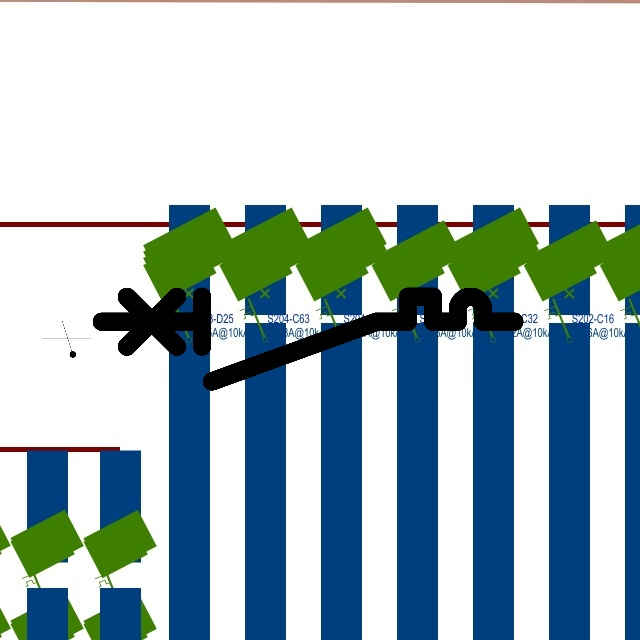interruptor_termomagnetico: (91, 286, 524, 392)
